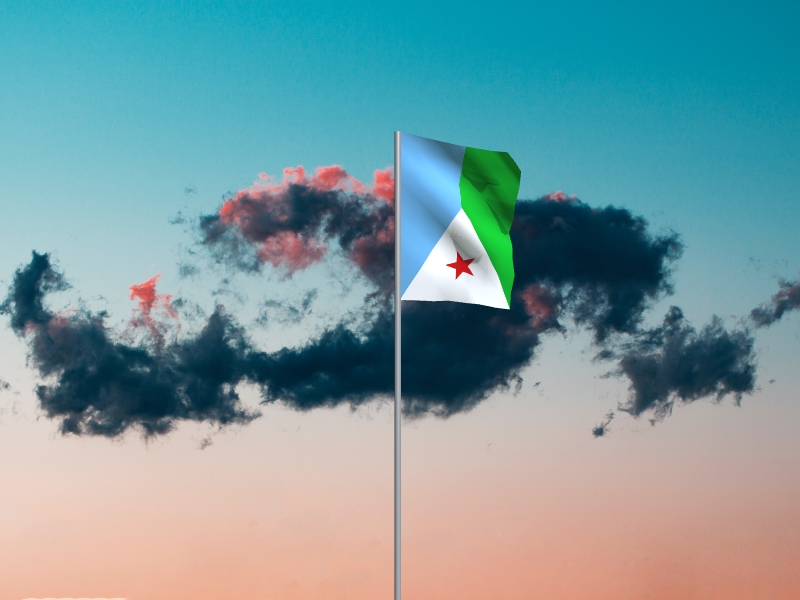dj: (402, 133, 523, 311)
